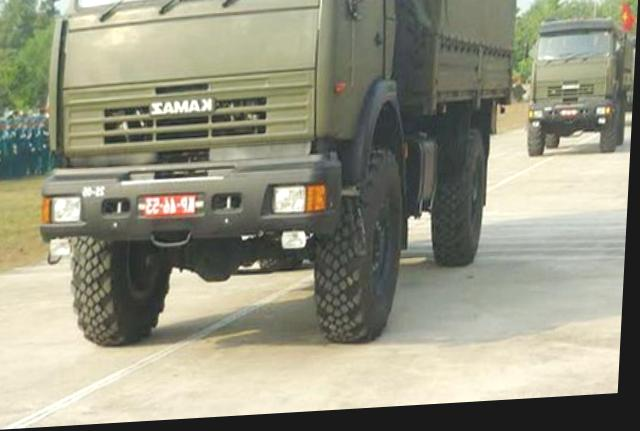License_Plate: (139, 190, 200, 223)
